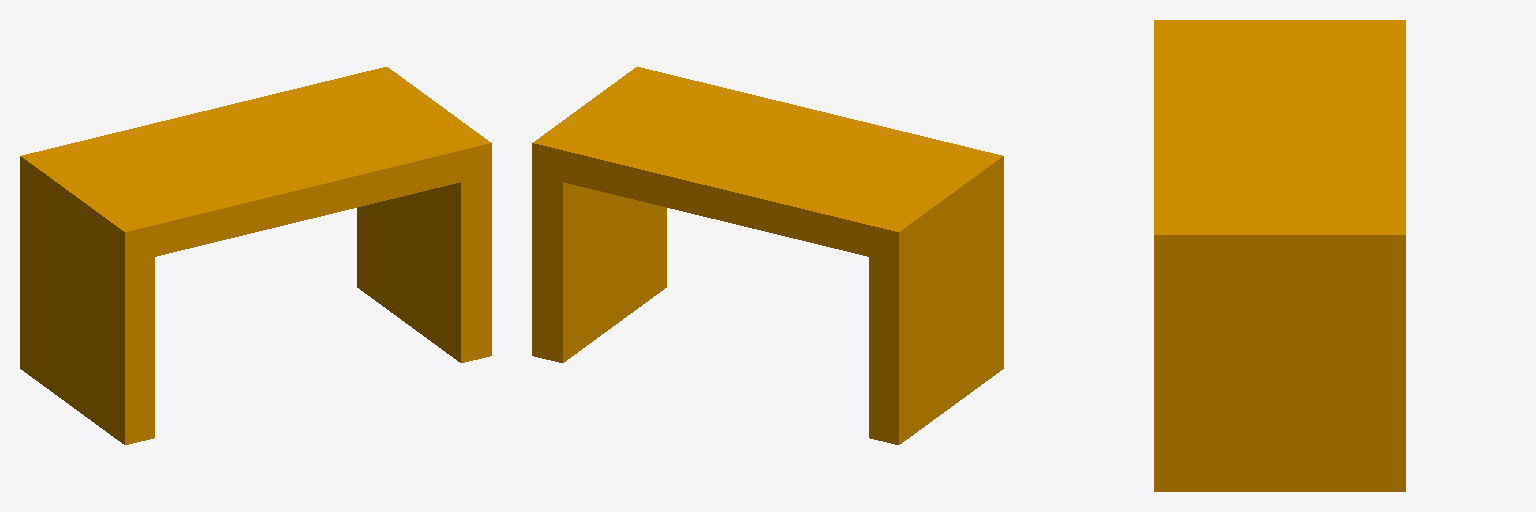
URDF robot description (table.off):
<?xml version="1.0"?>
<robot name="table.off">
	<link name="table.off">
		<inertial>
			<!--origin xyz="0 0 0" rpy="0 0 0" /-->
			<mass value="0.5" />
			<!--inertia ixx="0.000360" ixy="0" ixz="0" iyy="0.0000615" iyz="0" izz="0.00036" /-->
		</inertial>
    		<visual>
	      		<!--origin rpy="0 0 0" xyz="0 0 0"/-->
      			<geometry>
        			<mesh filename="table.off.obj"/>
      			</geometry>
         	</visual>
    		<collision>
      			<!--origin rpy="0 0 0" xyz="0 0 0"/-->
      			<geometry>
        			<mesh filename="table.off.obj"/>
      			</geometry>
    		</collision>
	</link>
</robot>

--- What the picture shows (computed from the rendered views, not written in the file) ---
The picture shows the robot from 3 angles, left to right: view 1: azimuth 30°, elevation 25°; view 2: azimuth 150°, elevation 25°; view 3: azimuth 270°, elevation 25°; orthographic projection.
Model table.off with 1 links and 0 joints (none), rooted at table.off, posed all joints at 0.
Visible links, largest first — view 1: table.off; view 2: table.off; view 3: table.off.
Link boxes in pixels (left/top/right/bottom): table.off: left=20, top=67, right=491, bottom=444; table.off: left=532, top=67, right=1003, bottom=444; table.off: left=1154, top=20, right=1405, bottom=491.
Size in the robot's own frame: 1.21 by 0.596 by 0.67 metres.
1 mesh visuals loaded from 1 distinct referenced files (1 OBJ).